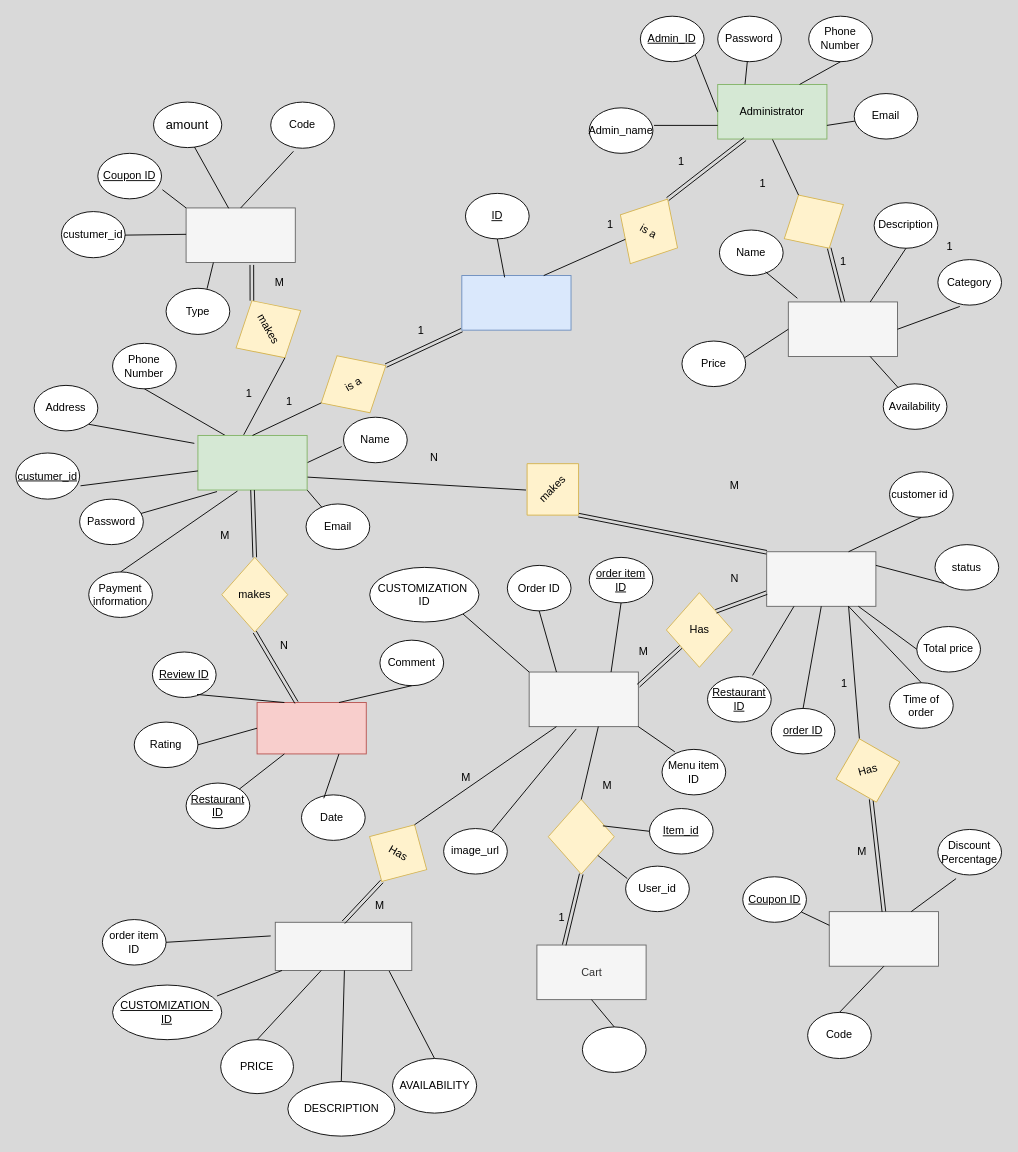
Some shapes in this 1018 by 1152 pixel diagram are drawn without their labels. Each missing label, with the box of its shape:
Added to: (547, 799, 614, 874)
Cart_id: (581, 1026, 646, 1072)
create: (768, 177, 859, 265)
Customer: (197, 435, 307, 490)
Customizations: (274, 921, 412, 971)
Menu: (787, 301, 898, 357)
Order: (766, 551, 876, 606)
Order items: (528, 671, 638, 727)
Payment: (185, 207, 295, 263)
Promotion: (828, 911, 938, 966)
Review: (256, 702, 366, 754)
User: (461, 275, 571, 330)
